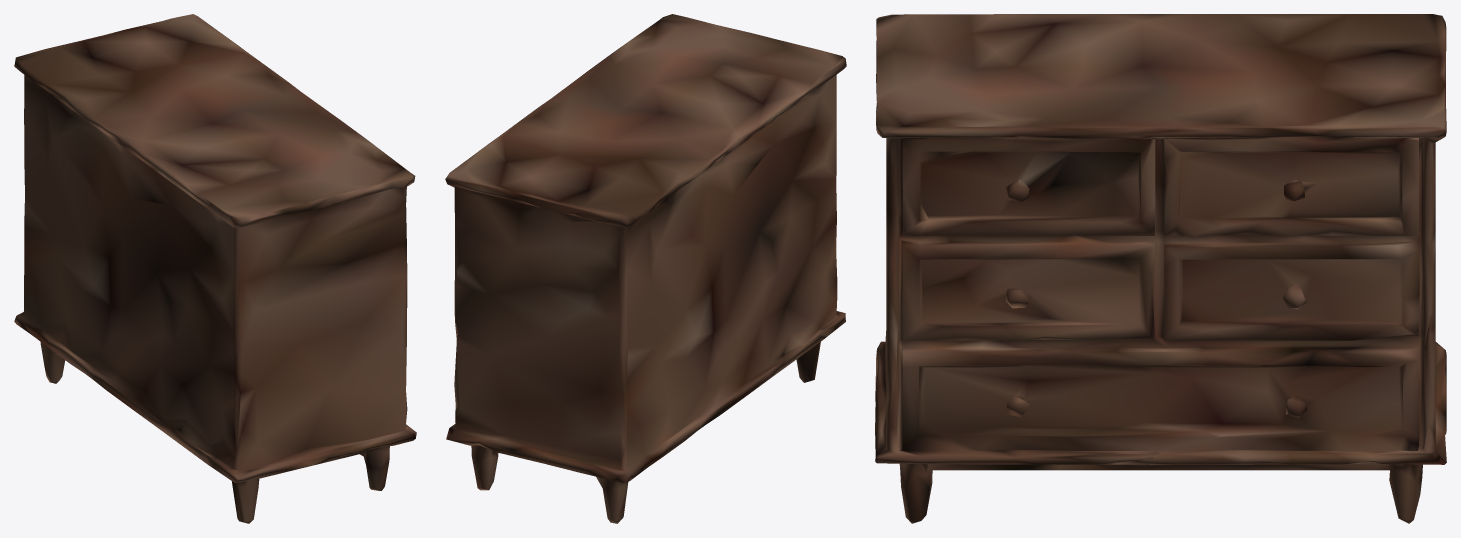
The model's file is comoda.glb.
The picture shows the model from 3 angles, left to right: view 1: azimuth 30°, elevation 25°; view 2: azimuth 150°, elevation 25°; view 3: azimuth 270°, elevation 25°; orthographic projection. The views are drawn at different scales.
Parts seen in each view (by area): view 1: tripo_node_6f5325bc-cb14-43b1-95aa-67bca78075cd; view 2: tripo_node_6f5325bc-cb14-43b1-95aa-67bca78075cd; view 3: tripo_node_6f5325bc-cb14-43b1-95aa-67bca78075cd.
Part boxes in pixels (bbox=[...]): tripo_node_6f5325bc-cb14-43b1-95aa-67bca78075cd: bbox=[14, 14, 416, 523]; tripo_node_6f5325bc-cb14-43b1-95aa-67bca78075cd: bbox=[445, 14, 846, 523]; tripo_node_6f5325bc-cb14-43b1-95aa-67bca78075cd: bbox=[875, 14, 1446, 523].
Size of the model in its own units: 0.4872 by 0.7907 by 0.9996.
